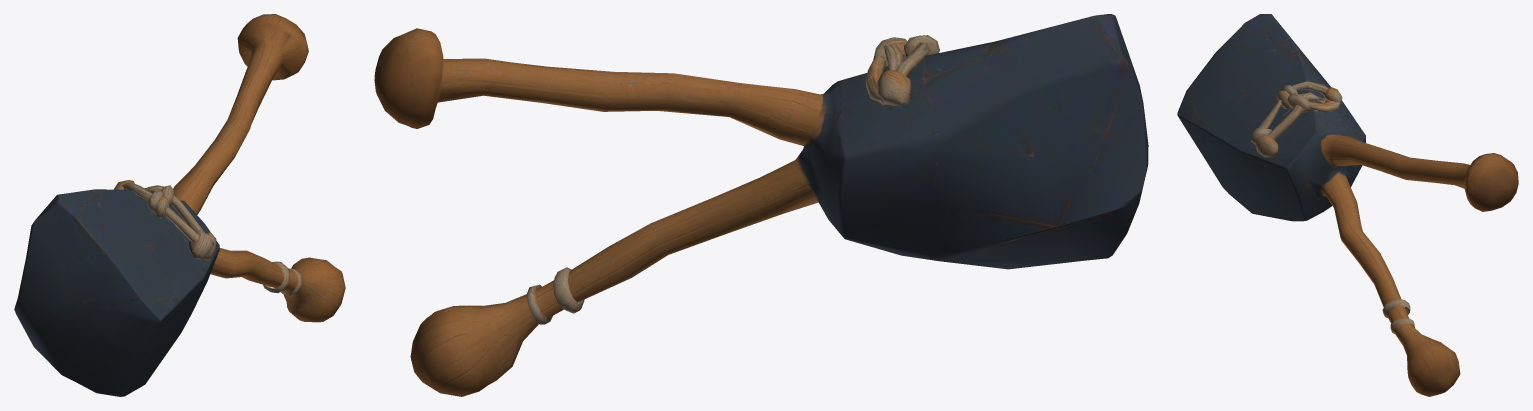
Rendered from wpn_mallet.glb.
3 views of the same model, side by side, from view 1: azimuth 30°, elevation 25°; view 2: azimuth 150°, elevation 25°; view 3: azimuth 270°, elevation 25° (orthographic). The views are drawn at different scales.
Size of the model in its own units: 0.9517 by 0.6104 by 0.8003.
1 material, 1 textured.
